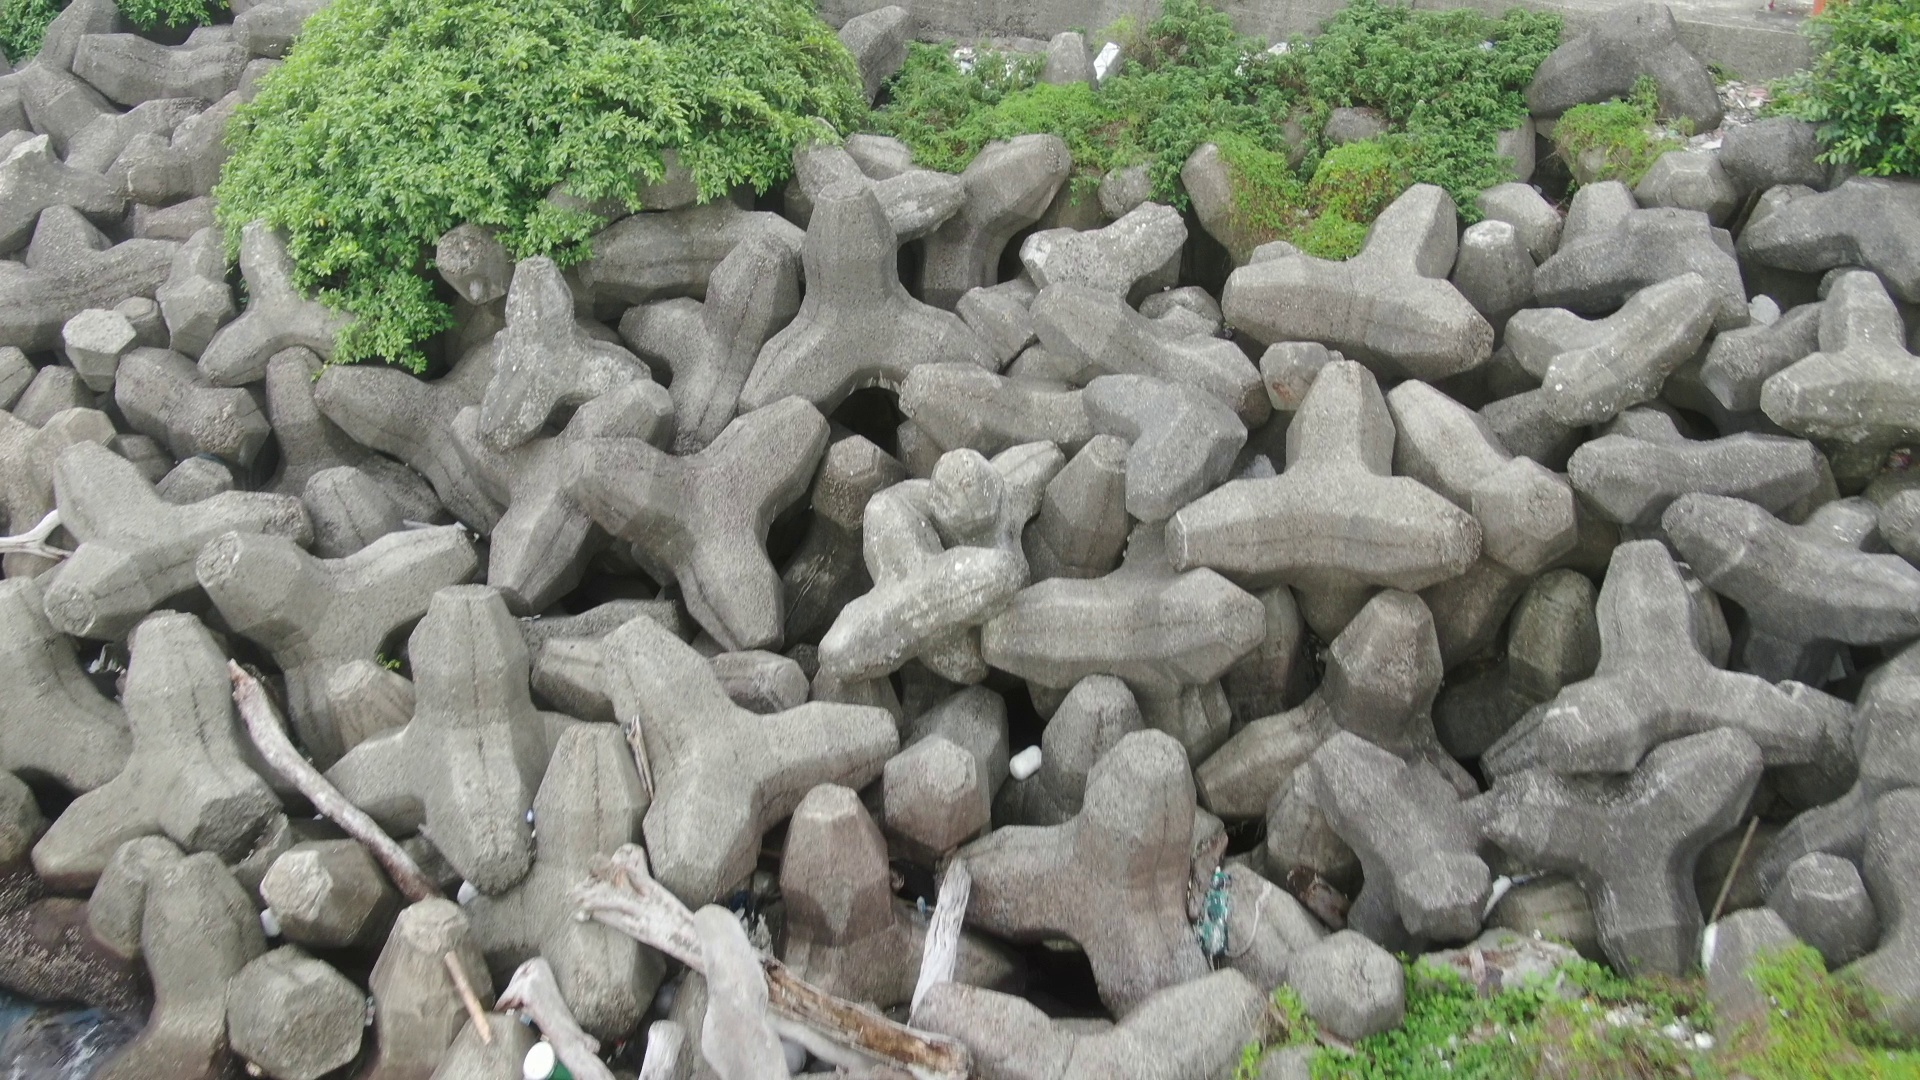garbage: (512, 1036, 574, 1080), (1004, 740, 1048, 781)
